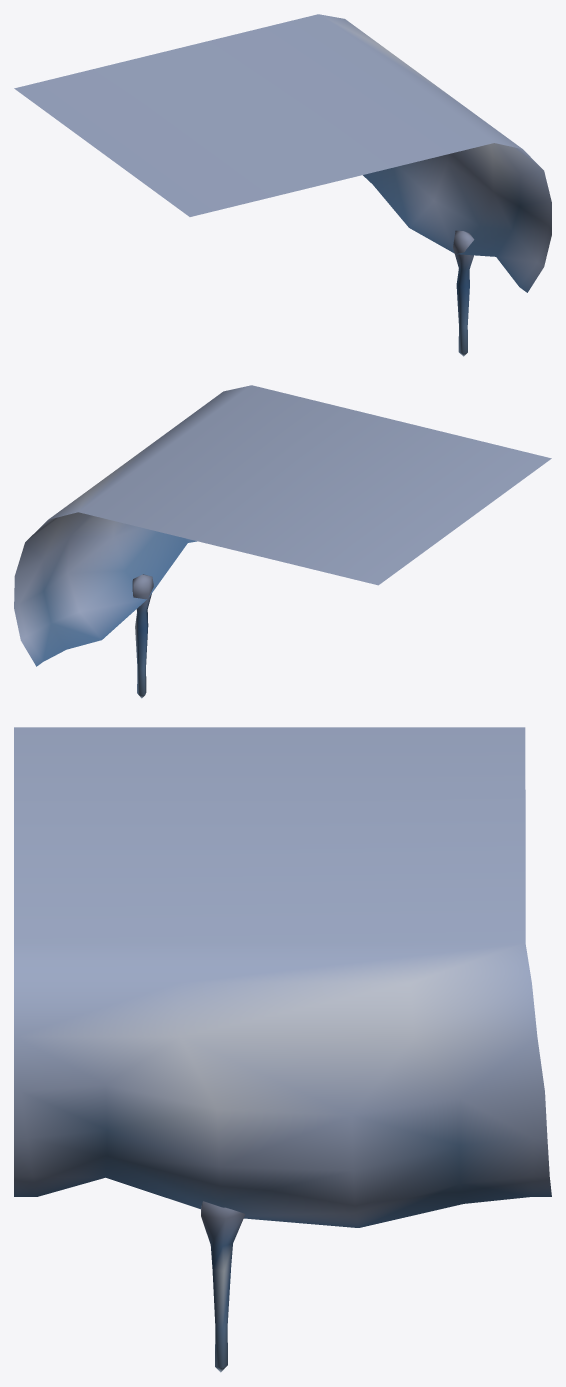
File: Surface_SideUpInner.fbx
3 views of the same model, one above another, from view 1: azimuth 30°, elevation 25°; view 2: azimuth 150°, elevation 25°; view 3: azimuth 270°, elevation 25° (orthographic). The views are drawn at different scales.
Parts seen in each view (by area): view 1: Surface_SideUpInner; view 2: Surface_SideUpInner; view 3: Surface_SideUpInner.
Part boxes in pixels (x1,y1,x2,y2): Surface_SideUpInner: (14,14,551,356); Surface_SideUpInner: (14,385,551,698); Surface_SideUpInner: (14,727,551,1372).
Size of the model in its own units: 2203 by 1551 by 1886.
